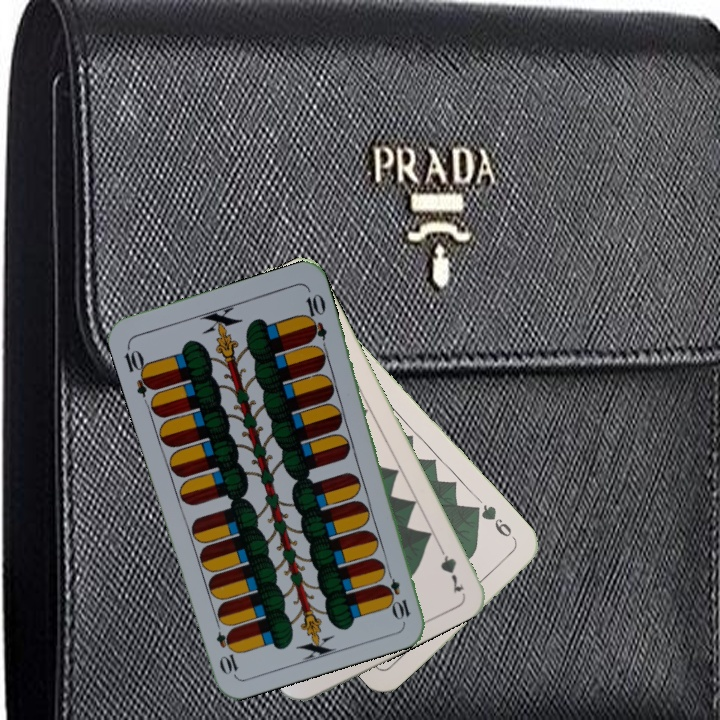E10: (120, 341, 158, 399), (380, 564, 413, 622)
G7: (433, 539, 467, 597)
G9: (472, 497, 520, 547)
